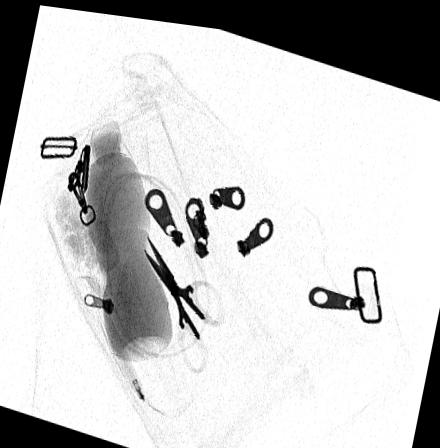Scissors: (137, 226, 228, 372)
